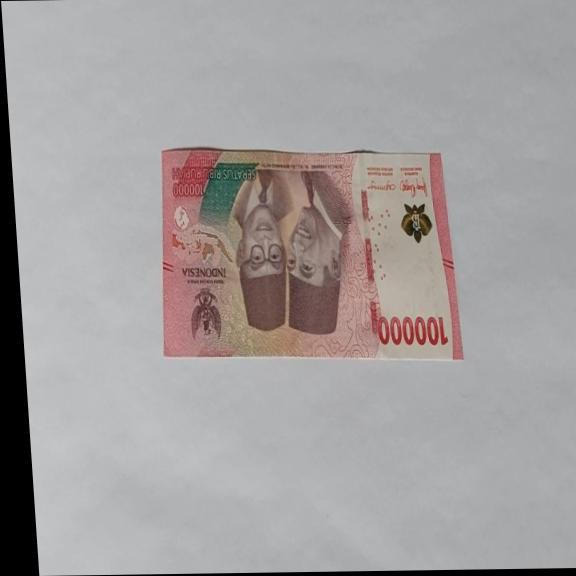Kertas: (149, 144, 463, 365), (375, 313, 449, 349)
